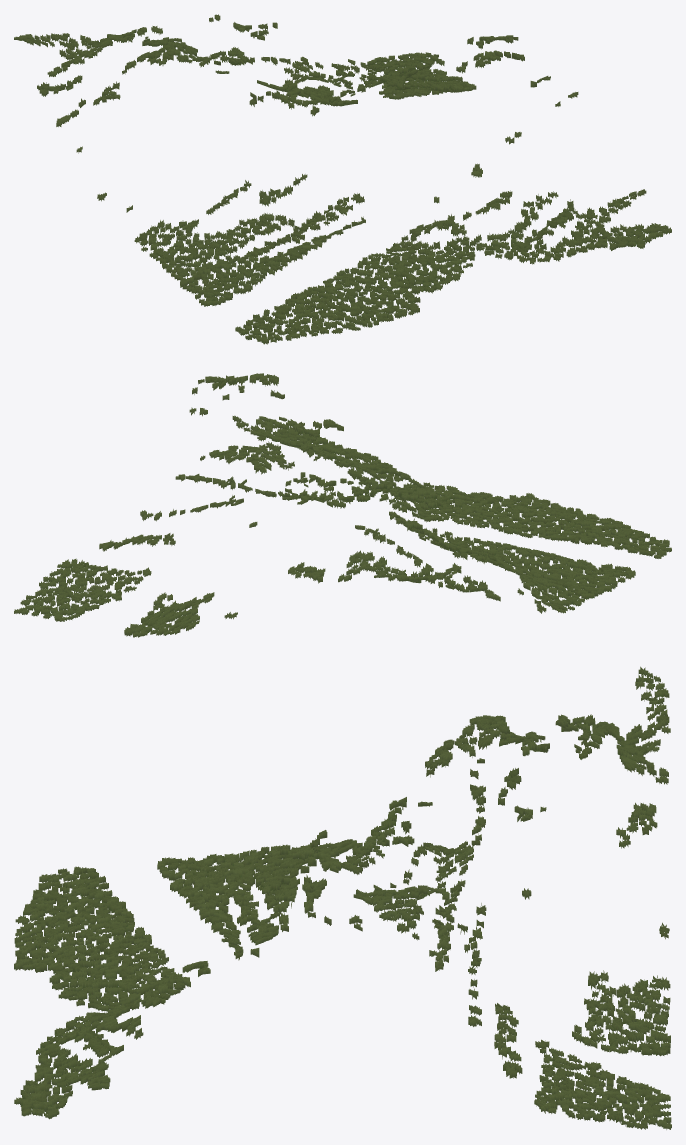
The model's file is TRB8-GRASS-CHUNK-6-2.glb.
The picture shows the model from 3 angles, top to bottom: view 1: azimuth 30°, elevation 25°; view 2: azimuth 150°, elevation 25°; view 3: azimuth 270°, elevation 25°; orthographic projection. The views are drawn at different scales.
Parts seen in each view (by area): view 1: TRB8-GRASS-CHUNK-6-2; view 2: TRB8-GRASS-CHUNK-6-2; view 3: TRB8-GRASS-CHUNK-6-2.
Boxes of the visible parts, box(x1,y1,x2,y2) form: TRB8-GRASS-CHUNK-6-2: box(14, 14, 671, 344); TRB8-GRASS-CHUNK-6-2: box(14, 373, 671, 637); TRB8-GRASS-CHUNK-6-2: box(14, 666, 671, 1129).
Bounding box in the file's own units: 40.41 × 14.96 × 40.47.
Materials: 1 (1 with a texture image).
